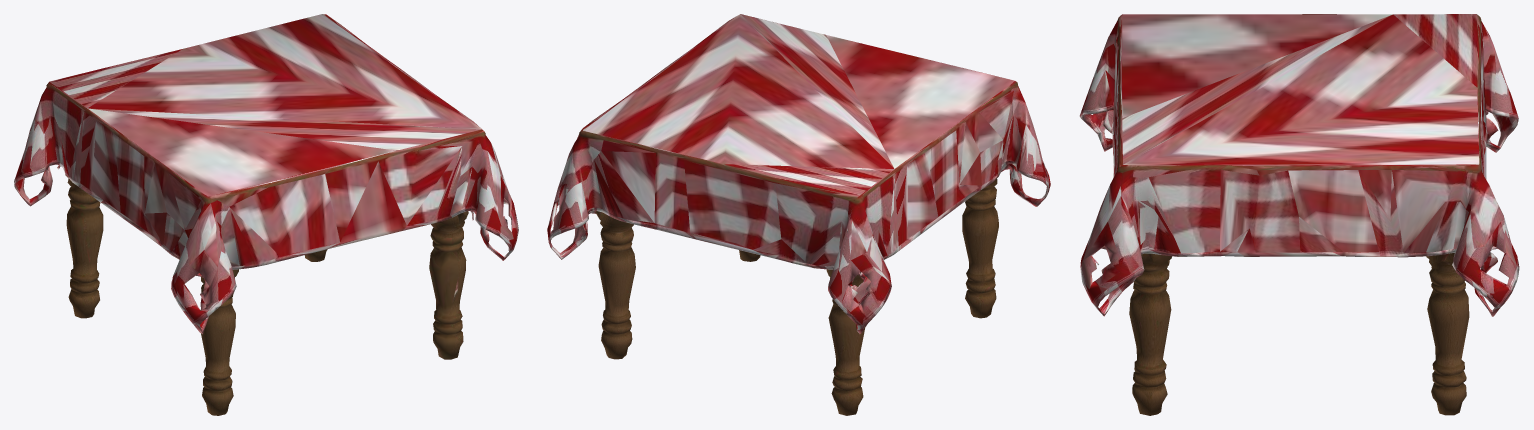
The model's file is table.glb.
The picture shows the model from 3 angles, left to right: view 1: azimuth 30°, elevation 25°; view 2: azimuth 150°, elevation 25°; view 3: azimuth 270°, elevation 25°; orthographic projection. The views are drawn at different scales.
Visible parts, largest first — view 1: Mesh_0; view 2: Mesh_0; view 3: Mesh_0.
Boxes of the visible parts, x1=… form: Mesh_0: x1=14, y1=14, x2=518, y2=415; Mesh_0: x1=547, y1=14, x2=1050, y2=415; Mesh_0: x1=1079, y1=14, x2=1519, y2=415.
Size of the model in its own units: 1.16 by 0.7485 by 1.16.
1 material, 1 textured.
